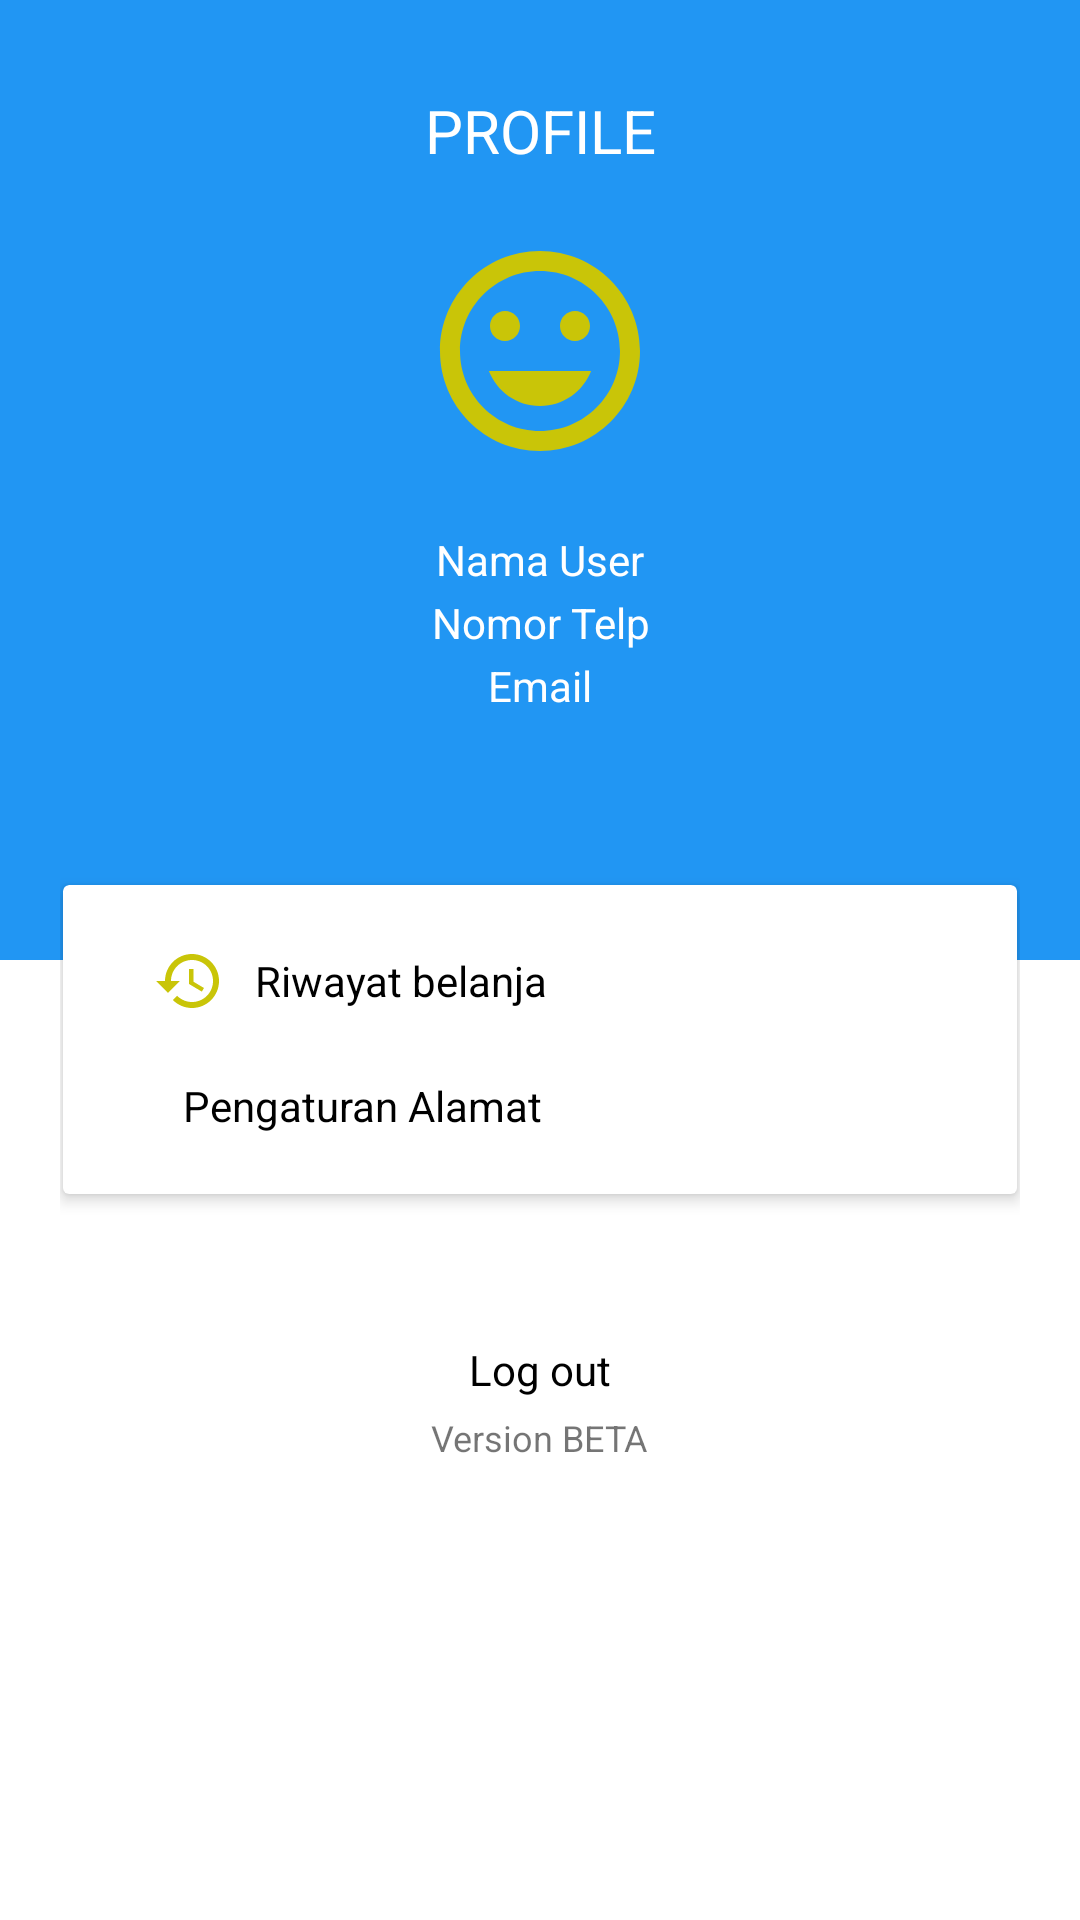

Where icons sit on this 1080w x 1920h app screen, as (x1=x1, y1=y1, x2=x2, y2=y2):
history: (x1=156, y1=954, x2=219, y2=1008)
